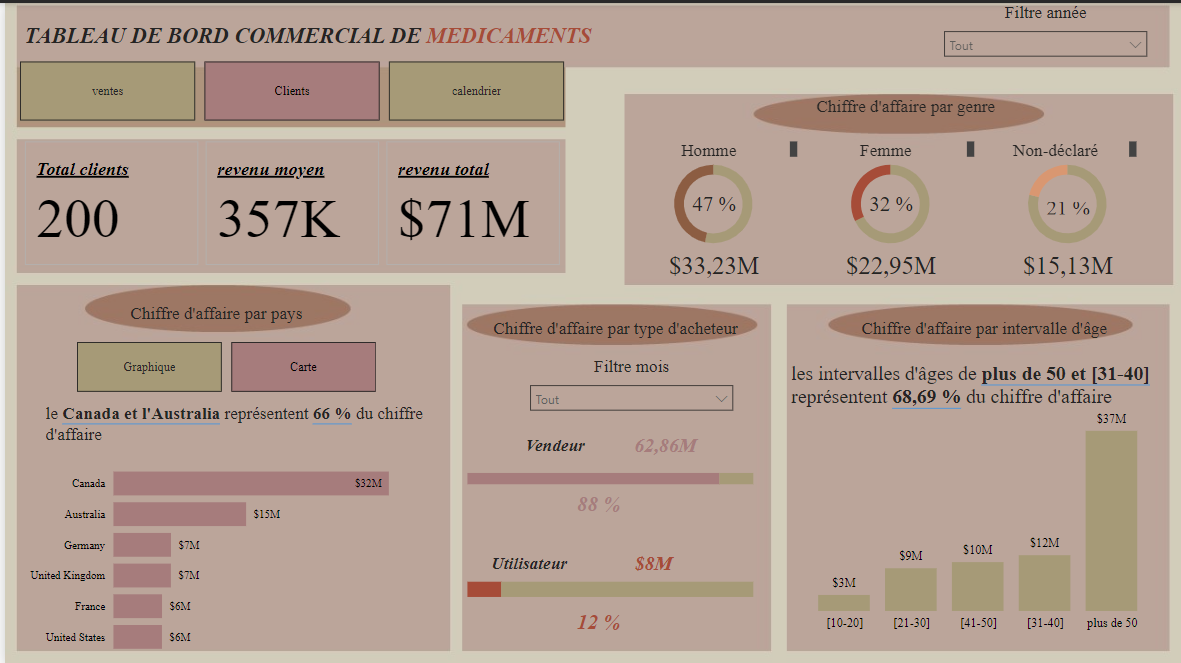

Layout of this report page (visuals, bound fields, positions):
{"tool":"powerbi","page":{"name":"Clients","canvas":[1280,720],"ordinal":1},"visuals":[{"type":"cardVisual","fields":{"Data":["_mesures.Total clients","_mesures.revenu moyen","_mesures.revenu total"]},"box":[16,144,592,144],"z":0},{"type":"group","id":"g1","title":"Groupe 1","box":[672,158.5,192,116.4],"z":0,"group":"g2"},{"type":"hundredPercentStackedBarChart","fields":{"Y":["_mesures.% CA vendeur","_mesures.reste CA vendeur"]},"box":[496,480,320,64],"z":0,"group":"g5"},{"type":"hundredPercentStackedBarChart","fields":{"Y":["_mesures.% CA utilisateur","_mesures.reste CA utilisateur"]},"box":[496,592,320,80],"z":0,"group":"g6"},{"type":"group","id":"g2","title":"Groupe 2","box":[672,144,576,160],"z":1000},{"type":"group","id":"g3","title":"Groupe 1","box":[864,158.5,192,116.4],"z":1000,"group":"g2"},{"type":"textbox","box":[549.3,464,93.3,32],"z":1000,"group":"g5"},{"type":"clusteredBarChart","title":"graphique","fields":{"Y":["_mesures.revenu total"],"Category":["CustomerTable.Country"]},"box":[16,482.4,440.8,237.6],"z":1000,"group":"g9"},{"type":"textbox","box":[512,592,112,32],"z":1000,"group":"g6"},{"type":"group","id":"g4","title":"Groupe 1","box":[1056,158.5,192,116.4],"z":2000,"group":"g2"},{"type":"bookmarkNavigator","box":[77.9,368,324.8,54.2],"z":2000,"group":"g9"},{"type":"group","id":"g5","title":"Groupe 5","box":[496,464,320,96],"z":2000},{"type":"card","fields":{"Values":["_mesures.CA vendeur"]},"box":[656,464,120,32],"z":2000,"group":"g5"},{"type":"card","fields":{"Values":["_mesures.CA utilisateur"]},"box":[642.7,592,120,32],"z":2000,"group":"g6"},{"type":"textbox","box":[672,144,192,29.1],"z":3000,"group":"g2"},{"type":"donutChart","fields":{"Y":["_mesures.reste:homme","_mesures.% CA homme"]},"box":[672,158.5,192,116.4],"z":3000,"group":"g1"},{"type":"donutChart","fields":{"Y":["_mesures.reste:femme","_mesures.% CA femme"]},"box":[864,158.5,192,116.4],"z":3000,"group":"g3"},{"type":"donutChart","fields":{"Y":["_mesures.reste:non-déclaré","_mesures.% CA non-déclaré"]},"box":[1056,158.5,192,116.4],"z":3000,"group":"g4"},{"type":"card","fields":{"Values":["_mesures.% CA vendeur"]},"box":[602.7,528,80,32],"z":3000,"group":"g5"},{"type":"group","id":"g6","title":"Groupe 6","box":[496,592,320,96],"z":3000},{"type":"card","fields":{"Values":["_mesures.% CA utilisateur"]},"box":[602.7,656,80,32],"z":3000,"group":"g6"},{"type":"textbox","box":[864,144,192,29.1],"z":4000,"group":"g2"},{"type":"card","fields":{"Values":["_mesures.% CA homme"]},"box":[720,197.3,96,38.8],"z":4000,"group":"g1"},{"type":"card","fields":{"Values":["_mesures.% CA femme"]},"box":[912,202.1,96,29.1],"z":4000,"group":"g3"},{"type":"card","fields":{"Values":["_mesures.% CA non-déclaré"]},"box":[1104,205,96,23.3],"z":4000,"group":"g4"},{"type":"group","id":"g7","title":"Groupe 7","box":[848,384,416,304],"z":4000},{"type":"textbox","box":[1056,144,176,29.1],"z":5000,"group":"g2"},{"type":"group","id":"g8","title":"Groupe 8","box":[16,368,464,352],"z":5000},{"type":"clusteredColumnChart","fields":{"Y":["_mesures.revenu total"],"Category":["CustomerTable.intervalle age"]},"box":[848,427.9,416,260.1],"z":5000,"group":"g7"},{"type":"card","fields":{"Values":["_mesures.CA homme"]},"box":[704,260.4,128,43.6],"z":6000,"group":"g2"},{"type":"textbox","box":[848,384,416,71.5],"z":6000,"group":"g7"},{"type":"card","fields":{"Values":["_mesures.pays actif"]},"box":[128,432,224,32],"z":6000},{"type":"slicer","title":"Filtre année","fields":{"Values":["date.Année"]},"box":[1008,0,240,64],"z":7000},{"type":"card","fields":{"Values":["_mesures.CA femme"]},"box":[896,260.4,128,43.6],"z":7000,"group":"g2"},{"type":"card","fields":{"Values":["_mesures.CA non-déclaré"]},"box":[1088,260.4,128,43.6],"z":8000,"group":"g2"},{"type":"textbox","box":[896,336,336,32],"z":8000},{"type":"group","id":"g9","title":"carte/graphique","box":[16,368,464,352],"z":8001,"group":"g8"},{"type":"textbox","box":[39.2,430.1,440.8,124.2],"z":8501,"group":"g8"},{"type":"textbox","box":[512,336,304,32],"z":9000},{"type":"slicer","title":"Filtre mois","fields":{"Values":["date.Mois"]},"box":[560,384,240,64],"z":10000},{"type":"textbox","box":[64,320,336,32],"z":11000},{"type":"textbox","box":[832,96,288,32],"z":12000},{"type":"textbox","box":[16,16,704,48],"z":13000},{"type":"pageNavigator","box":[16,64,592,64],"z":13001}]}

Visuals, with their boxes in screenshot pixels (x1, y1, x2, y2), scaled from the page's 1280x720 canvas onto the 1181x663 screenshot:
cardVisual - _mesures.Total clients x _mesures.revenu moyen: pyautogui.locateOnScreen(15, 133, 561, 265)
"Groupe 1" group: pyautogui.locateOnScreen(620, 146, 797, 253)
hundredPercentStackedBarChart - _mesures.% CA vendeur x _mesures.reste CA vendeur: pyautogui.locateOnScreen(458, 442, 753, 501)
hundredPercentStackedBarChart - _mesures.% CA utilisateur x _mesures.reste CA utilisateur: pyautogui.locateOnScreen(458, 545, 753, 619)
"Groupe 2" group: pyautogui.locateOnScreen(620, 133, 1151, 280)
"Groupe 1" group: pyautogui.locateOnScreen(797, 146, 974, 253)
textbox: pyautogui.locateOnScreen(507, 427, 593, 457)
"graphique" clusteredBarChart: pyautogui.locateOnScreen(15, 444, 421, 662)
textbox: pyautogui.locateOnScreen(472, 545, 576, 575)
"Groupe 1" group: pyautogui.locateOnScreen(974, 146, 1151, 253)
bookmarkNavigator: pyautogui.locateOnScreen(72, 339, 372, 389)
"Groupe 5" group: pyautogui.locateOnScreen(458, 427, 753, 516)
card - _mesures.CA vendeur: pyautogui.locateOnScreen(605, 427, 716, 457)
card - _mesures.CA utilisateur: pyautogui.locateOnScreen(593, 545, 704, 575)
textbox: pyautogui.locateOnScreen(620, 133, 797, 159)
donutChart - _mesures.reste:homme x _mesures.% CA homme: pyautogui.locateOnScreen(620, 146, 797, 253)
donutChart - _mesures.reste:femme x _mesures.% CA femme: pyautogui.locateOnScreen(797, 146, 974, 253)
donutChart - _mesures.reste:non-déclaré x _mesures.% CA non-déclaré: pyautogui.locateOnScreen(974, 146, 1151, 253)
card - _mesures.% CA vendeur: pyautogui.locateOnScreen(556, 486, 630, 516)
"Groupe 6" group: pyautogui.locateOnScreen(458, 545, 753, 634)
card - _mesures.% CA utilisateur: pyautogui.locateOnScreen(556, 604, 630, 634)
textbox: pyautogui.locateOnScreen(797, 133, 974, 159)
card - _mesures.% CA homme: pyautogui.locateOnScreen(664, 182, 753, 217)
card - _mesures.% CA femme: pyautogui.locateOnScreen(841, 186, 930, 213)
card - _mesures.% CA non-déclaré: pyautogui.locateOnScreen(1019, 189, 1107, 210)
"Groupe 7" group: pyautogui.locateOnScreen(782, 354, 1166, 634)
textbox: pyautogui.locateOnScreen(974, 133, 1137, 159)
"Groupe 8" group: pyautogui.locateOnScreen(15, 339, 443, 662)
clusteredColumnChart - _mesures.revenu total x CustomerTable.intervalle age: pyautogui.locateOnScreen(782, 394, 1166, 634)
card - _mesures.CA homme: pyautogui.locateOnScreen(650, 240, 768, 280)
textbox: pyautogui.locateOnScreen(782, 354, 1166, 419)
card - _mesures.pays actif: pyautogui.locateOnScreen(118, 398, 325, 427)
"Filtre année" slicer: pyautogui.locateOnScreen(930, 0, 1151, 59)
card - _mesures.CA femme: pyautogui.locateOnScreen(827, 240, 945, 280)
card - _mesures.CA non-déclaré: pyautogui.locateOnScreen(1004, 240, 1122, 280)
textbox: pyautogui.locateOnScreen(827, 309, 1137, 339)
"carte/graphique" group: pyautogui.locateOnScreen(15, 339, 443, 662)
textbox: pyautogui.locateOnScreen(36, 396, 443, 510)
textbox: pyautogui.locateOnScreen(472, 309, 753, 339)
"Filtre mois" slicer: pyautogui.locateOnScreen(517, 354, 738, 413)
textbox: pyautogui.locateOnScreen(59, 295, 369, 324)
textbox: pyautogui.locateOnScreen(768, 88, 1033, 118)
textbox: pyautogui.locateOnScreen(15, 15, 664, 59)
pageNavigator: pyautogui.locateOnScreen(15, 59, 561, 118)
